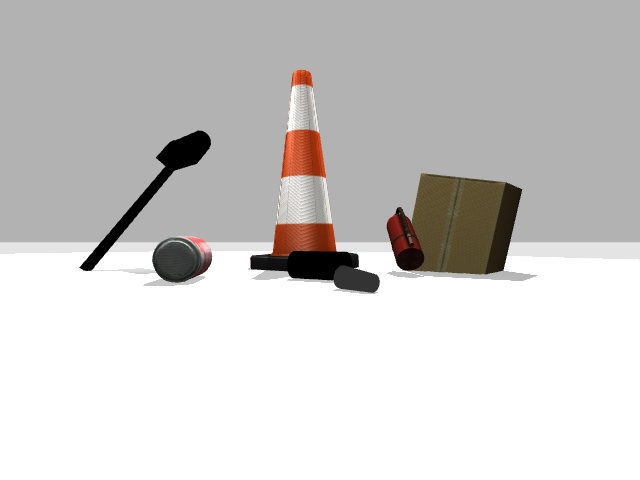boite_lettres: (80, 131, 211, 270)
canette: (152, 236, 211, 282)
carton: (411, 173, 521, 273)
cone_chantier: (250, 70, 336, 270)
extincteur: (386, 207, 424, 270)
gobelet: (334, 266, 379, 292)
